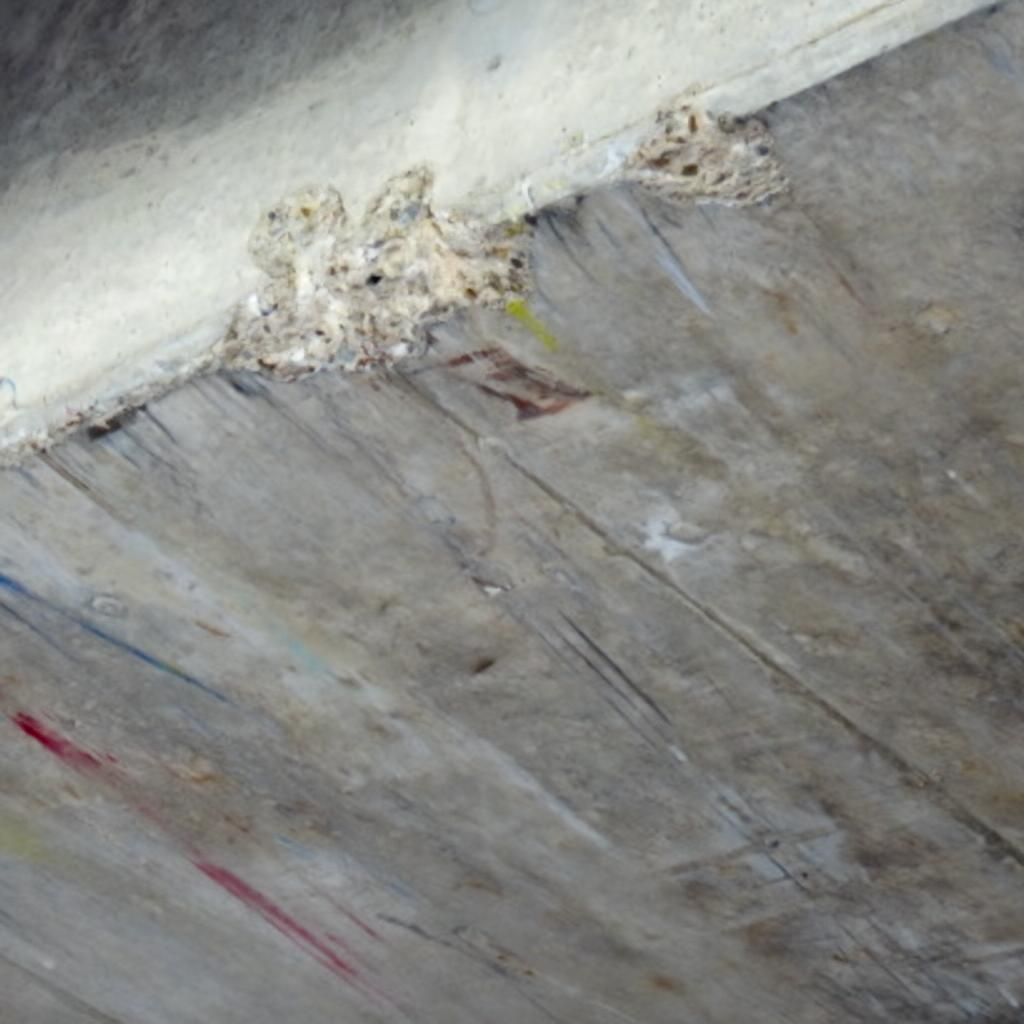spalling: (220, 166, 528, 378), (622, 106, 786, 205)
